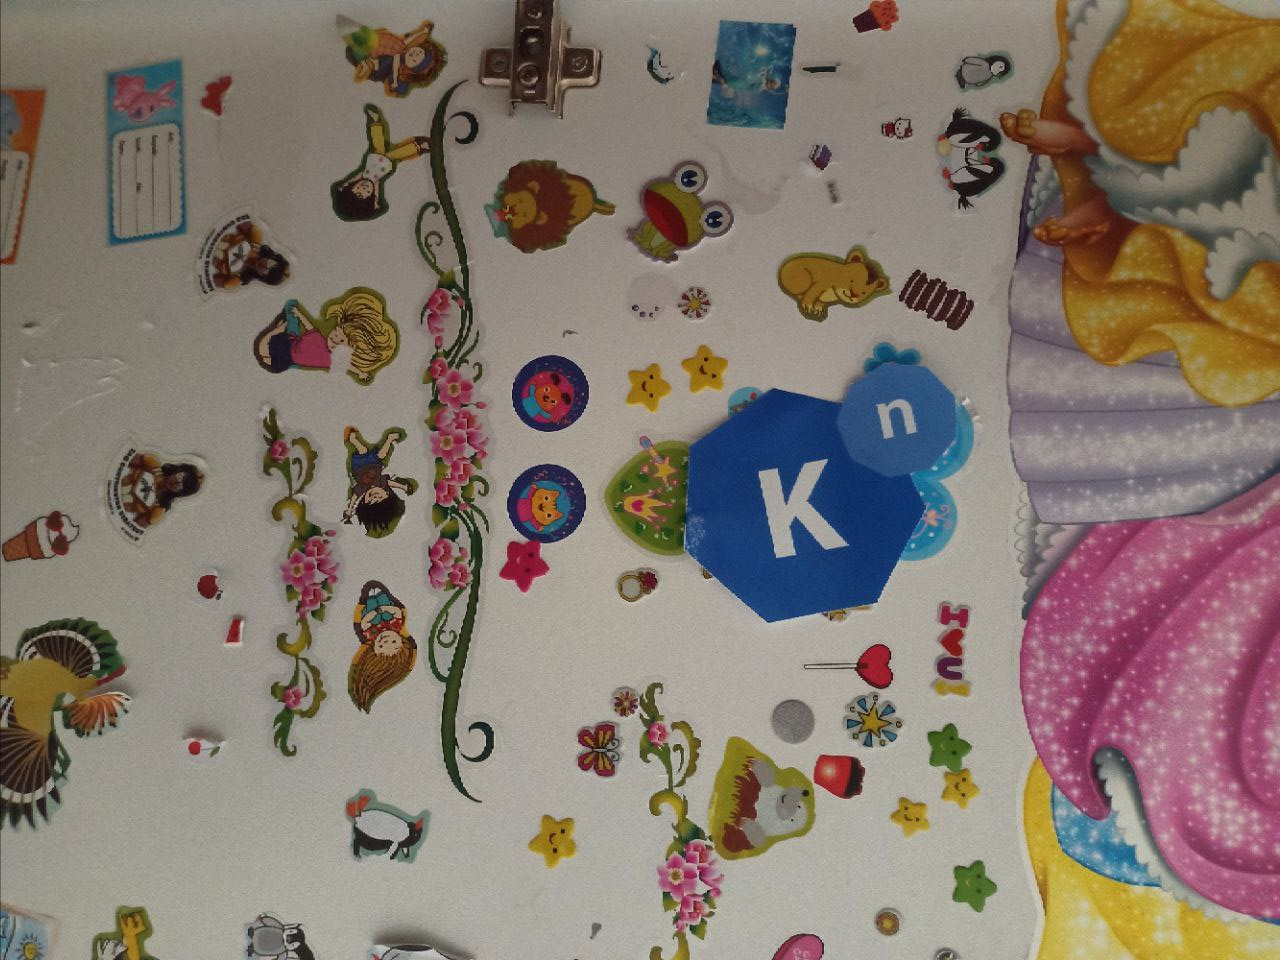knative: (685, 360, 959, 624)
